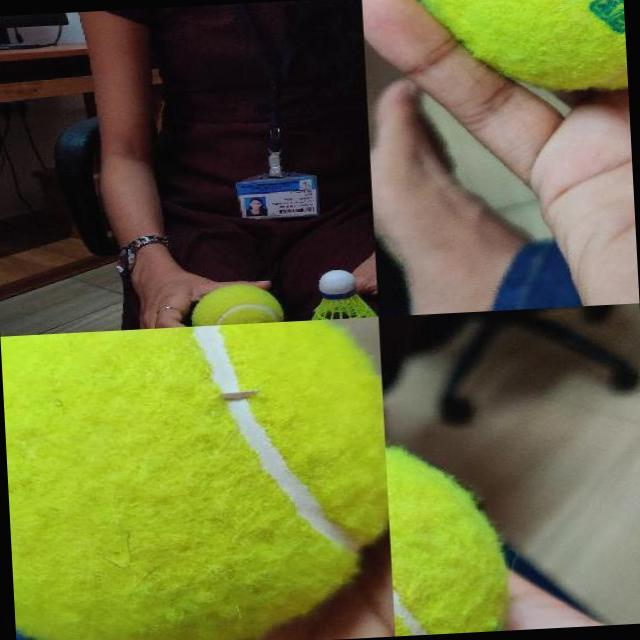Tennis Ball: (1, 317, 395, 640), (386, 428, 508, 636), (419, 0, 628, 98), (190, 282, 284, 326)
